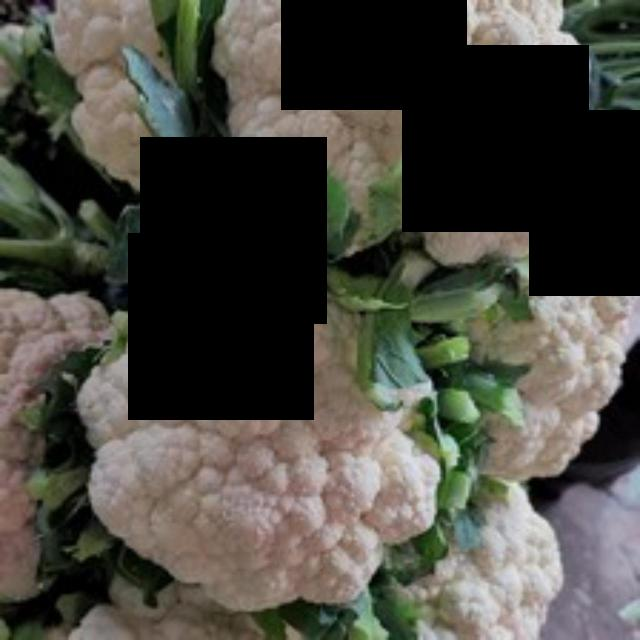cauliflower: (80, 273, 482, 601), (211, 0, 599, 270)
